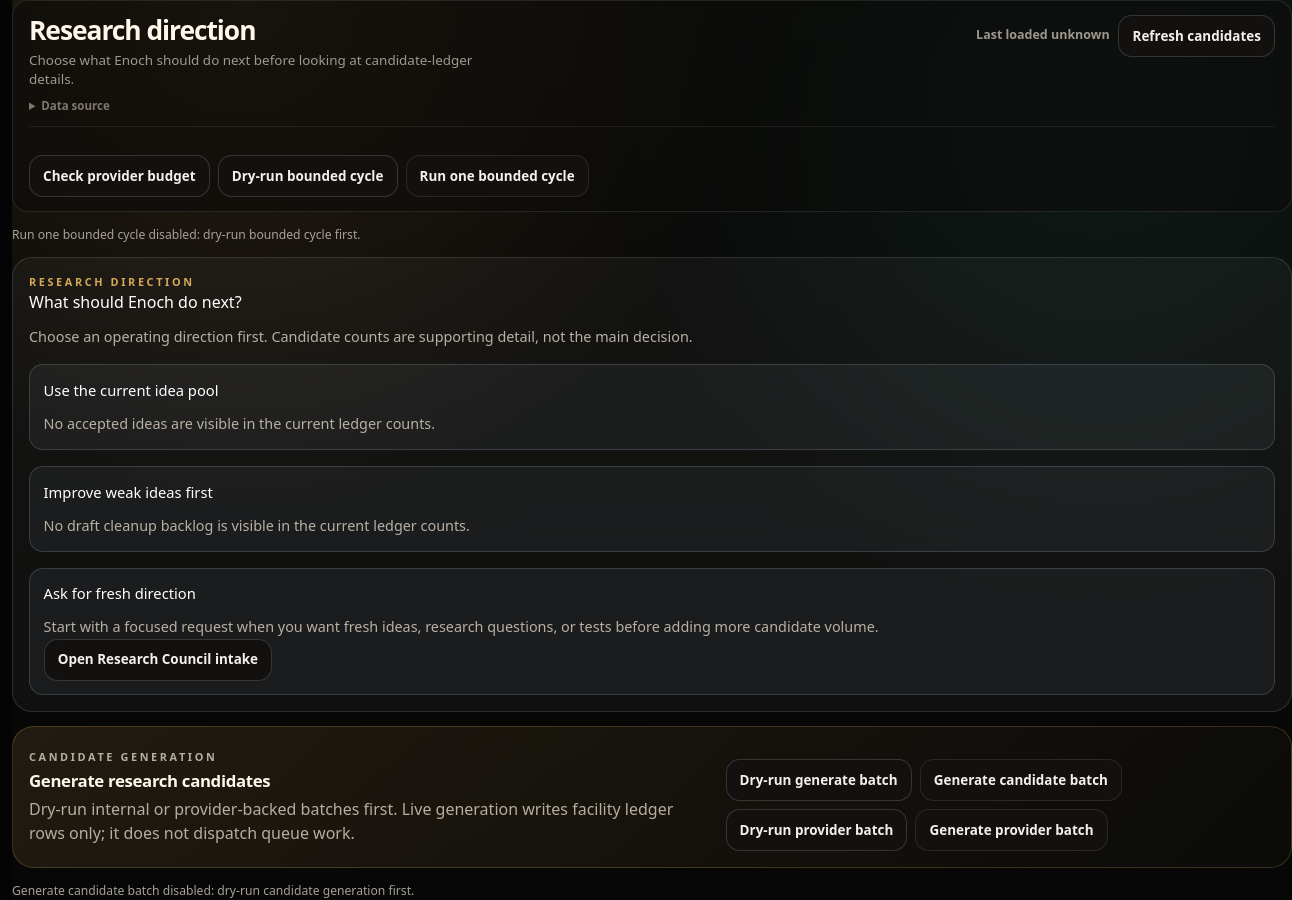
Test case: dry-runs the bounded research cycle without live enablement
The image size is (1292, 900).
Click the button "Dry-run bounded cycle": (308, 176) [218,155,398,197]
(page scrolled)
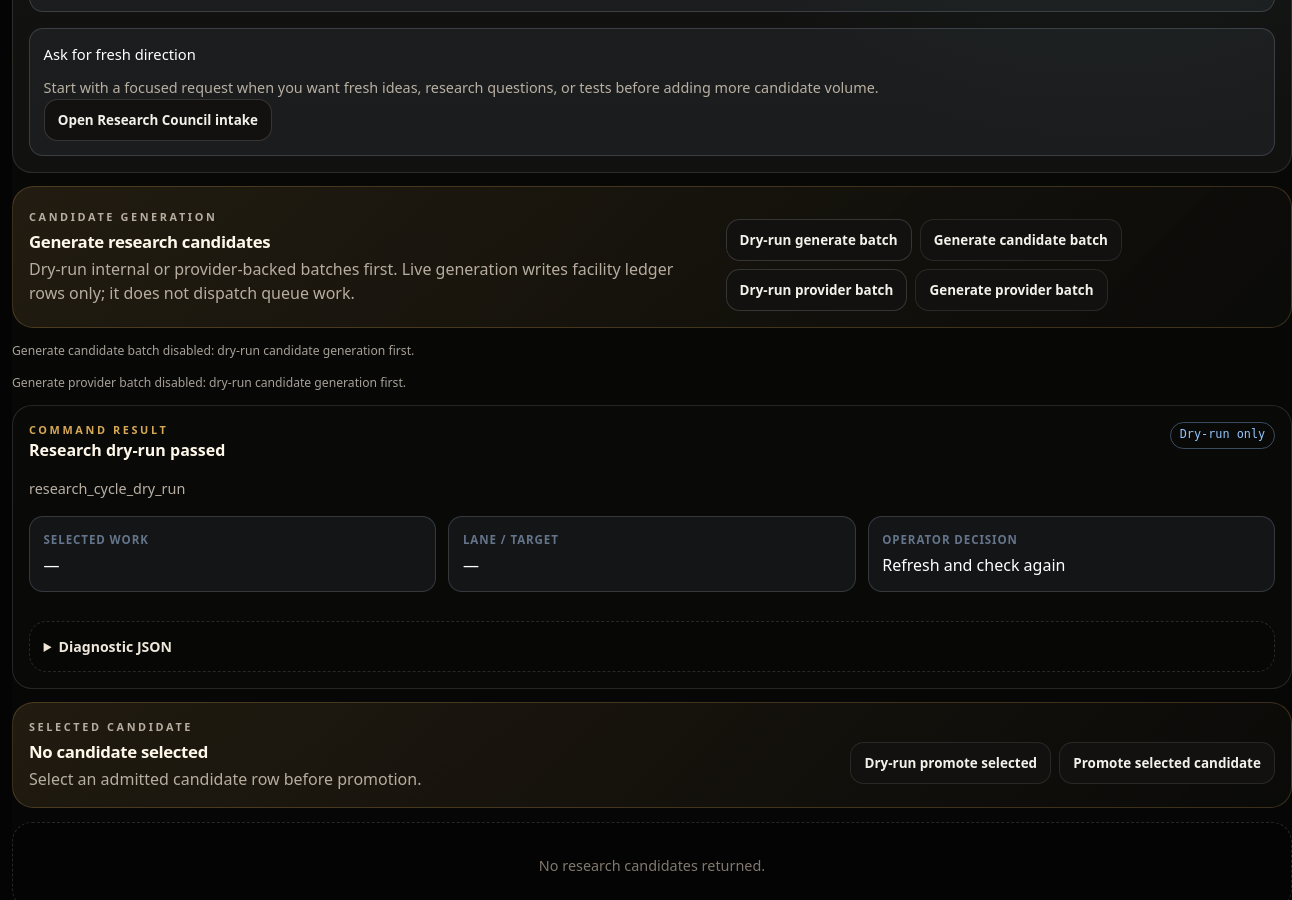
Expected: the heading "Research dry-run passed" is shown, [29,438,225,462]
